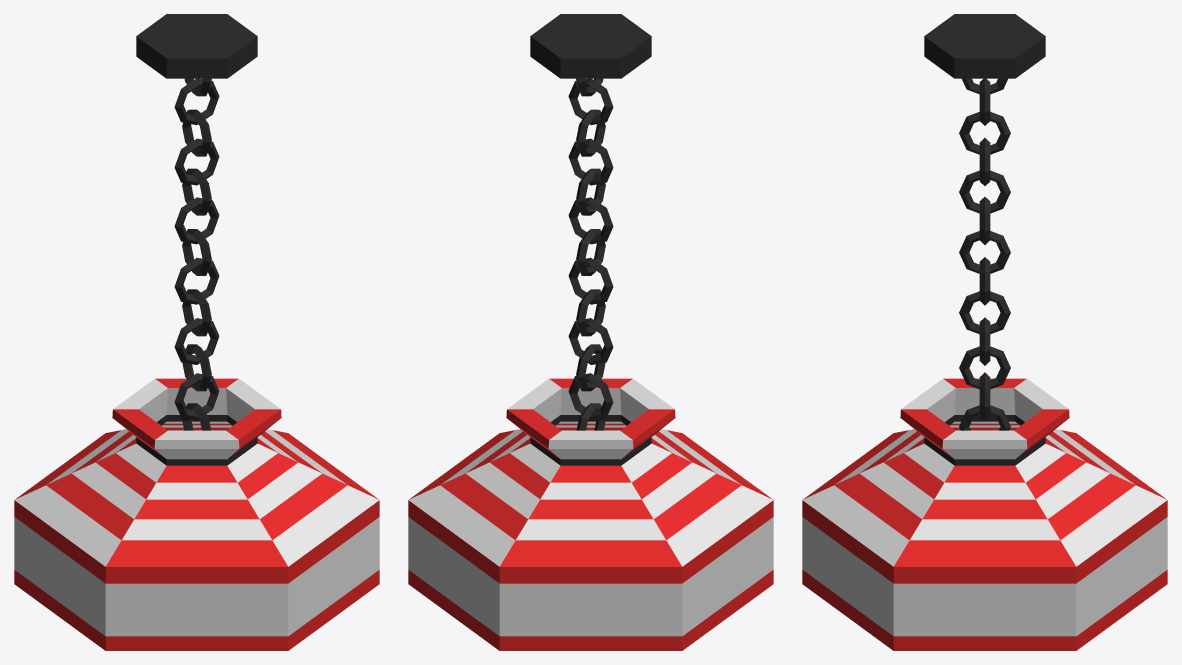
The model's file is pizza-hut-lamp.fbx.
3 renders of one model, left to right at view 1: azimuth 30°, elevation 25°; view 2: azimuth 150°, elevation 25°; view 3: azimuth 270°, elevation 25°, orthographic.
Visible parts, largest first — view 1: Cylinder.003, Cylinder.001, Cylinder, Torus.007, Torus.003, Torus.009, Torus.011, Torus.001, Torus.005, Torus.002, Torus.006, Torus.008 (+2 smaller); view 2: Cylinder.003, Cylinder.001, Cylinder, Torus.007, Torus.003, Torus.009, Torus.011, Torus.001, Torus.005, Torus.002, Torus.006, Torus.008 (+2 smaller); view 3: Cylinder.003, Cylinder.001, Cylinder, Torus.008, Torus.004, Torus.006, Torus.002, Torus.010, Torus.012, Torus.007, Torus.009, Torus.011 (+1 smaller).
Boxes of the visible parts, x1=… form: Cylinder.003: x1=14, y1=415, x2=379, y2=583; Cylinder.001: x1=14, y1=378, x2=379, y2=650; Cylinder: x1=136, y1=14, x2=257, y2=78; Torus.007: x1=174, y1=257, x2=219, y2=304; Torus.003: x1=174, y1=138, x2=219, y2=185; Torus.009: x1=174, y1=318, x2=219, y2=364; Torus.011: x1=174, y1=373, x2=219, y2=420; Torus.001: x1=174, y1=78, x2=219, y2=125; Torus.005: x1=174, y1=197, x2=219, y2=244; Torus.002: x1=182, y1=109, x2=211, y2=156; Torus.006: x1=182, y1=229, x2=211, y2=275; Torus.008: x1=182, y1=289, x2=211, y2=336; Cylinder.003: x1=408, y1=415, x2=773, y2=583; Cylinder.001: x1=408, y1=378, x2=773, y2=650; Cylinder: x1=530, y1=14, x2=651, y2=78; Torus.007: x1=568, y1=257, x2=613, y2=304; Torus.003: x1=568, y1=138, x2=613, y2=185; Torus.009: x1=568, y1=318, x2=613, y2=364; Torus.011: x1=568, y1=373, x2=613, y2=420; Torus.001: x1=568, y1=78, x2=613, y2=125; Torus.005: x1=568, y1=197, x2=613, y2=244; Torus.002: x1=576, y1=109, x2=605, y2=156; Torus.006: x1=576, y1=229, x2=605, y2=275; Torus.008: x1=576, y1=289, x2=605, y2=336; Cylinder.003: x1=802, y1=415, x2=1167, y2=583; Cylinder.001: x1=802, y1=378, x2=1167, y2=650; Cylinder: x1=924, y1=14, x2=1045, y2=78; Torus.008: x1=959, y1=291, x2=1010, y2=334; Torus.004: x1=959, y1=170, x2=1010, y2=213; Torus.006: x1=959, y1=231, x2=1010, y2=273; Torus.002: x1=959, y1=112, x2=1010, y2=154; Torus.010: x1=959, y1=346, x2=1010, y2=389; Torus.012: x1=959, y1=405, x2=1010, y2=430; Torus.007: x1=979, y1=257, x2=990, y2=305; Torus.009: x1=979, y1=317, x2=990, y2=365; Torus.011: x1=979, y1=372, x2=990, y2=420.
Bounding box in the file's own units: 170 × 341 × 196.
